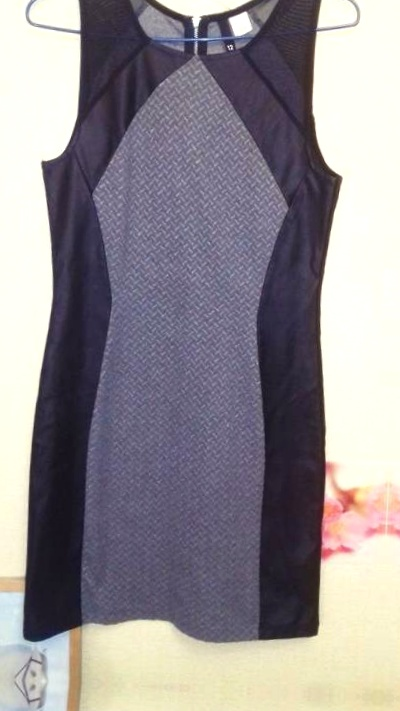Dress: (0, 0, 381, 663)
